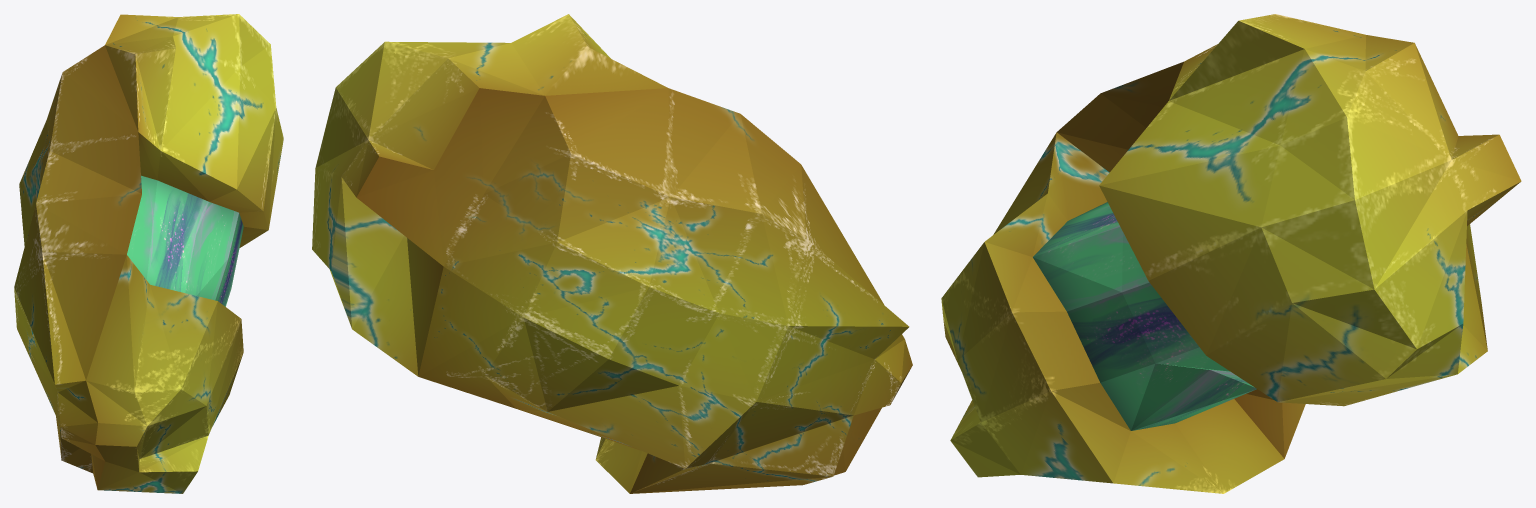
Rendered from Crystal002.fbx.
3 renders of one model, left to right at view 1: azimuth 30°, elevation 25°; view 2: azimuth 150°, elevation 25°; view 3: azimuth 270°, elevation 25°, orthographic. The views are drawn at different scales.
Parts seen in each view (by area): view 1: FlowingStone002; view 2: FlowingStone002; view 3: FlowingStone002.
Part boxes in pixels (x1,y1,x2,y2): FlowingStone002: (14, 14, 283, 493); FlowingStone002: (312, 14, 912, 493); FlowingStone002: (941, 14, 1521, 493).
Bounding box in the file's own units: 23.33 × 24 × 24.49.
